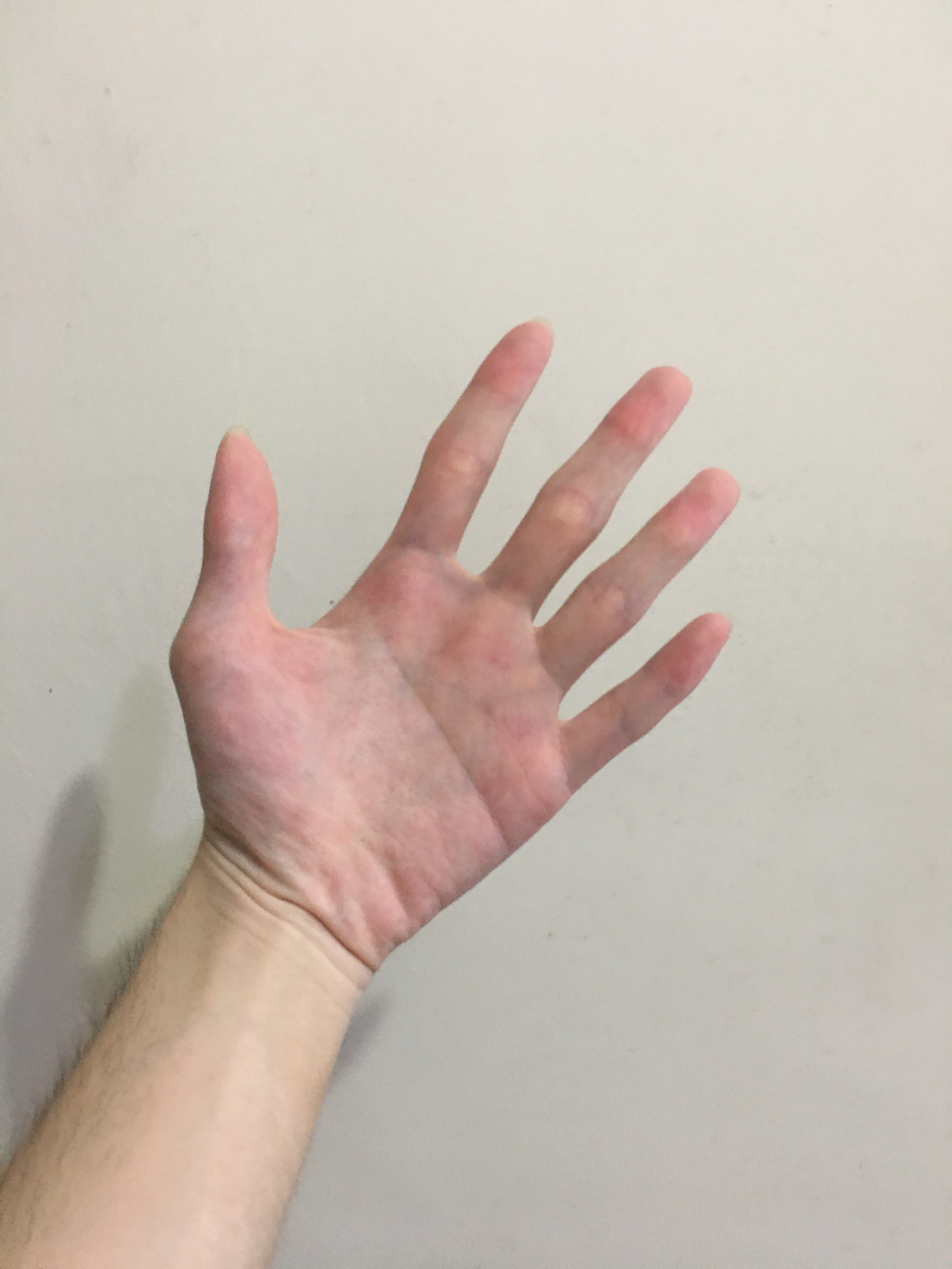No-gloves: (155, 305, 759, 999)
